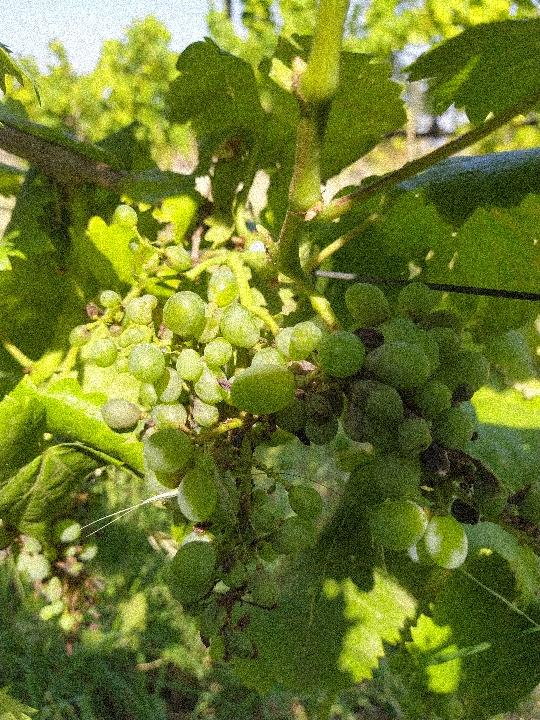grape: (68, 203, 496, 681)
